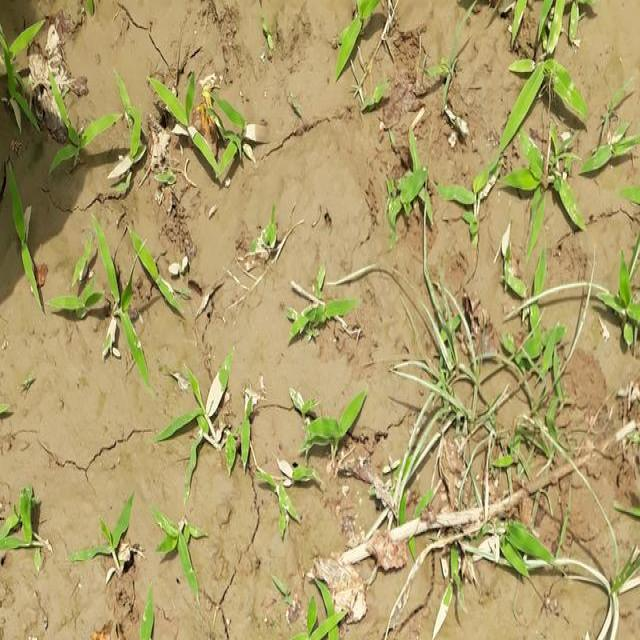weed: (468, 0, 622, 585), (0, 74, 184, 386), (198, 363, 370, 547)
